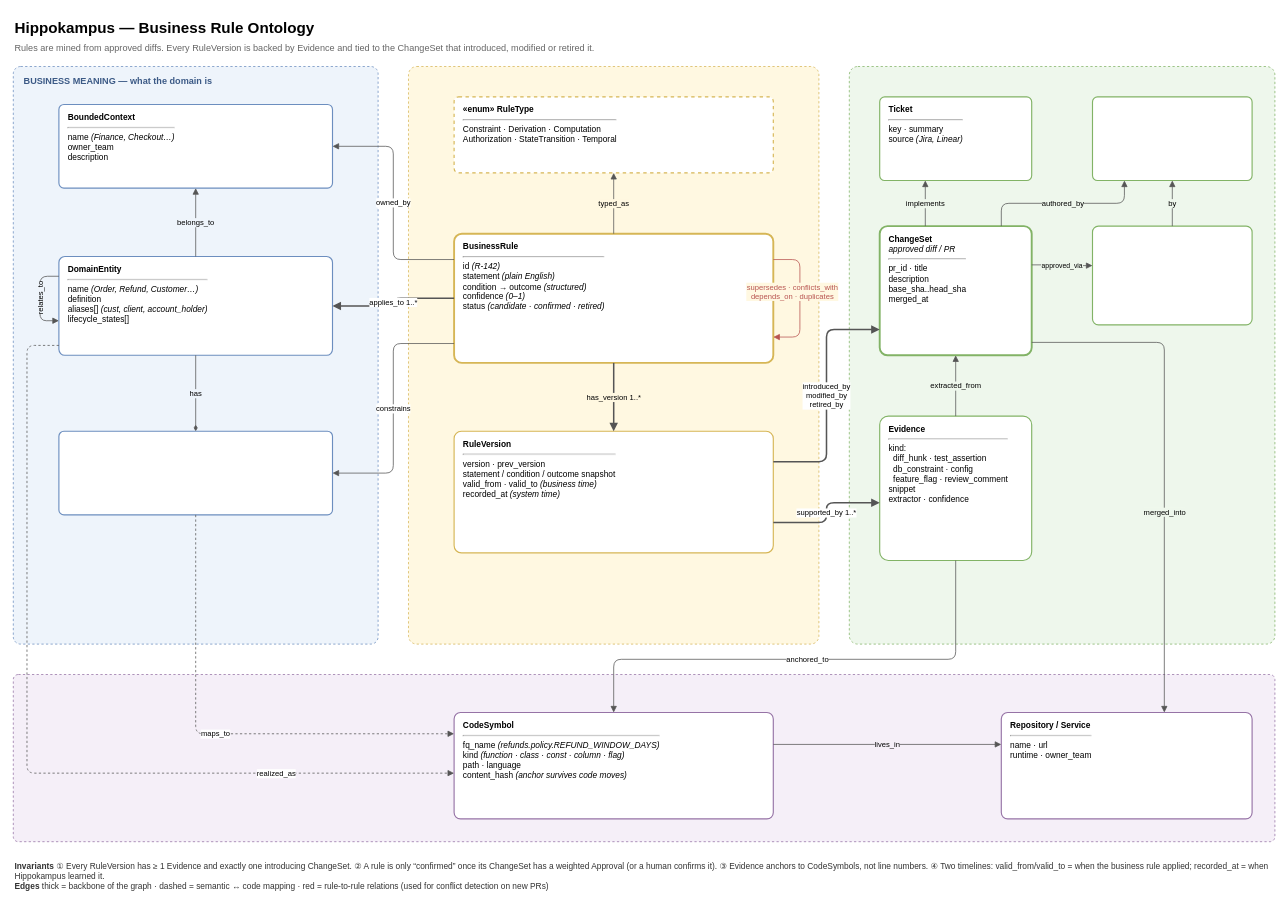
Image size: 1288x915. Some labels were removed from this diagram. Each missing label, with the box of its shape:
Approval approved_at review_comments weight (real review vs rubber stamp): (1092, 225, 1252, 325)
Attribute name (requested_at, amount…) data_type · unit allowed_values: (58, 430, 333, 515)
CODE — where it is enforced: (13, 674, 1275, 842)
Person handle · role team: (1092, 96, 1252, 181)
PROVENANCE — why, who, when: (849, 66, 1275, 644)
RULE CORE — what must be true: (408, 66, 819, 644)
